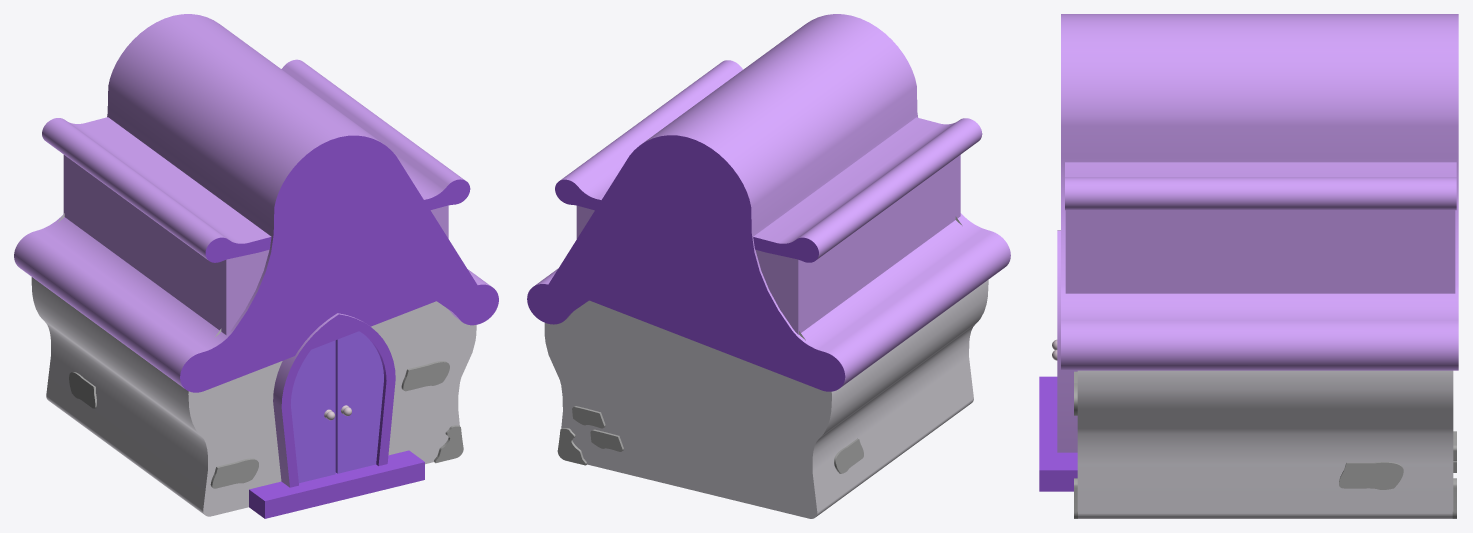
The picture shows the model from 3 angles, left to right: view 1: azimuth 30°, elevation 25°; view 2: azimuth 150°, elevation 25°; view 3: azimuth 270°, elevation 25°; orthographic projection. The views are drawn at different scales.
Parts seen in each view (by area): view 1: cati, evDuvar, cati2, catiDuvar, kapi.001, kapigiris, kapiDuvar, taslar; view 2: cati, evDuvar, cati2, catiDuvar, taslar; view 3: cati, evDuvar, catiDuvar, cati2, kapigiris, taslar, kapiDuvar.
Part boxes in pixels (box(x1,y1,x2,y2)): cati: box(14, 14, 498, 392); evDuvar: box(31, 213, 476, 516); cati2: box(42, 59, 470, 262); catiDuvar: box(63, 155, 448, 335); kapi.001: box(291, 331, 383, 483); kapigiris: box(249, 450, 424, 518); kapiDuvar: box(273, 313, 395, 487); taslar: box(69, 361, 463, 488); cati: box(527, 14, 1010, 391); evDuvar: box(544, 216, 988, 518); cati2: box(555, 60, 982, 262); catiDuvar: box(576, 155, 960, 334); taslar: box(557, 406, 863, 473); cati: box(1061, 14, 1458, 370); evDuvar: box(1077, 370, 1453, 518); catiDuvar: box(1065, 210, 1455, 293); cati2: box(1065, 162, 1456, 210); kapigiris: box(1039, 376, 1077, 491); taslar: box(1074, 371, 1456, 518); kapiDuvar: box(1057, 230, 1077, 452).
Size of the model in its own units: 63.24 by 67.21 by 60.13.
